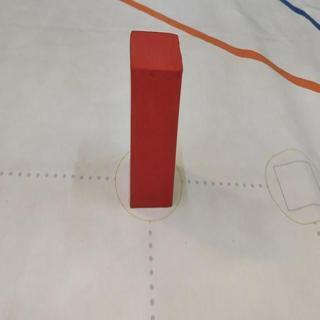redbox: (129, 29, 183, 209)
